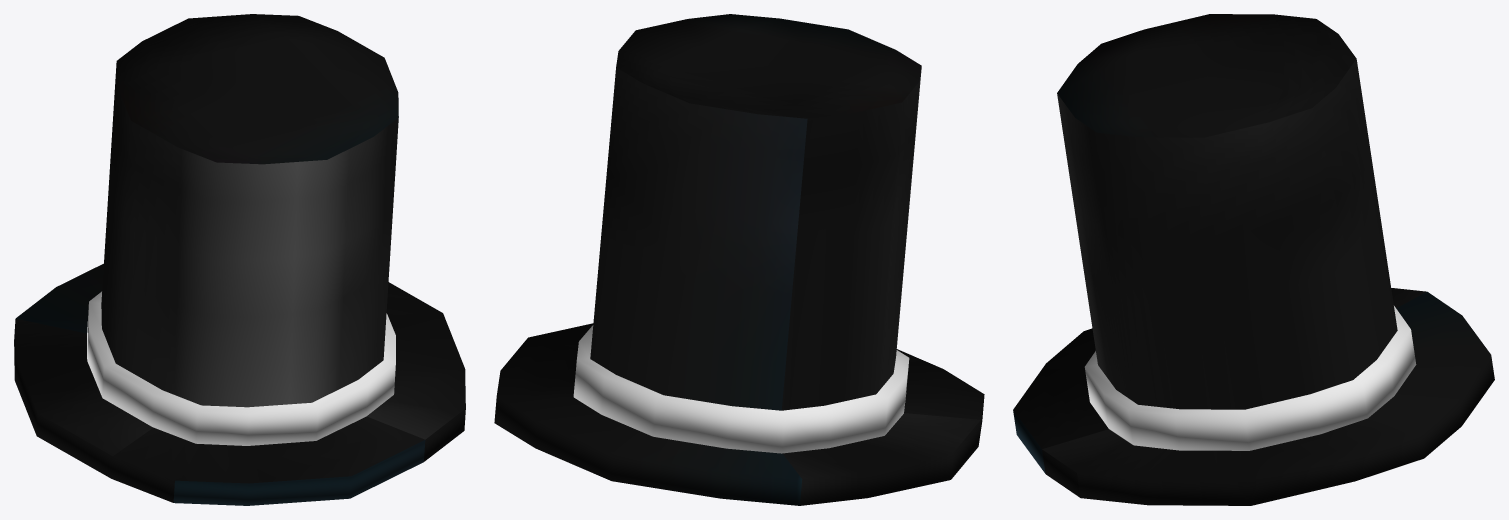
Rendered from TRUETOPHATTEXTURED.fbx.
3 views of the same model, side by side, from view 1: azimuth 30°, elevation 25°; view 2: azimuth 150°, elevation 25°; view 3: azimuth 270°, elevation 25° (orthographic). The views are drawn at different scales.
Parts seen in each view (by area): view 1: TOP_HAT; view 2: TOP_HAT; view 3: TOP_HAT.
Part boxes in pixels (box(x1,y1,x2,y2)): TOP_HAT: box(14, 14, 465, 505); TOP_HAT: box(494, 14, 984, 505); TOP_HAT: box(1013, 14, 1494, 505).
Size of the model in its own units: 29.57 by 25.46 by 29.52.
2 materials, 1 textured.
